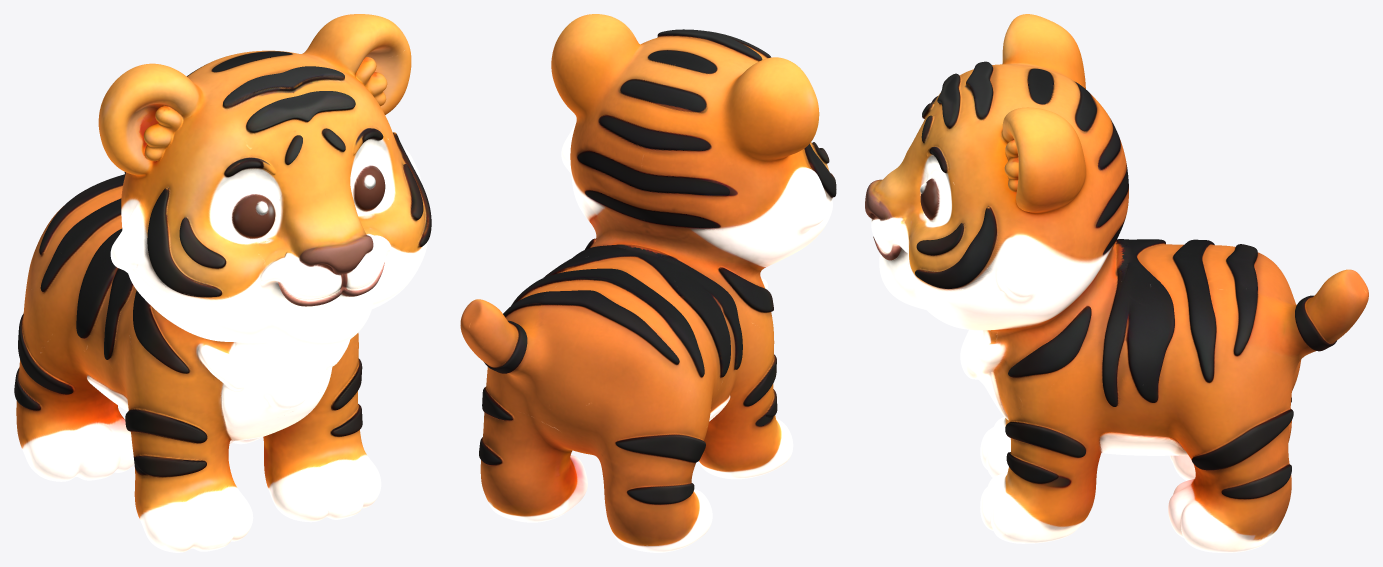
The model's file is Tigre.glb.
3 renders of one model, left to right at view 1: azimuth 30°, elevation 25°; view 2: azimuth 150°, elevation 25°; view 3: azimuth 270°, elevation 25°, orthographic. The views are drawn at different scales.
Bounding box in the file's own units: 1.21 × 1.83 × 1.9.
Materials: 1 (1 with a texture image).
